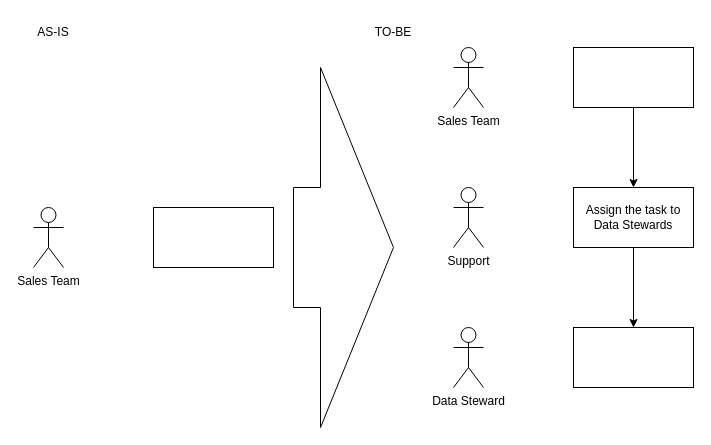
Some shapes in this 711 by 445 pixel diagram are drawn without their labels. Each missing label, with the box of its shape:
Create Item: (572, 326, 694, 388)
Create Item for sales in ERP: (152, 206, 274, 268)
Request Item for sales in Sales Force: (572, 46, 694, 108)
